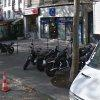Motorcycle: (16, 36, 69, 74)
